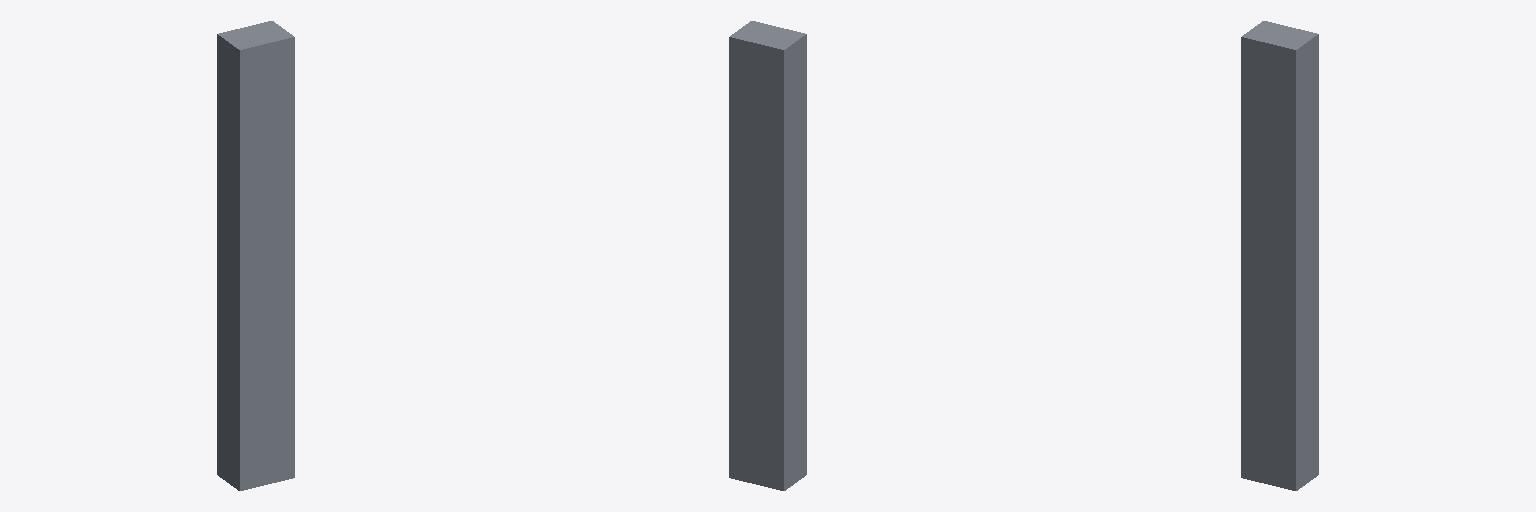
URDF robot description (artmanip_knife_000):
<?xml version='1.0' encoding='utf-8'?>
<robot name="artmanip_knife_000"><link name="link_0"><inertial><mass value="0.031555113532106" /><inertia ixx="4.690128575858709e-05" iyy="4.7303359192385536e-05" izz="1.1855783791040664e-06" ixy="0" ixz="0" iyz="0" /></inertial><visual><geometry><box size="0.01737474276289402 0.012205669964177655 0.13299237452177545" /></geometry><material name="link_0_color"><color rgba=".58 .60 .64 1" /></material></visual><collision><geometry><box size="0.01737474276289402 0.012205669964177655 0.13299237452177545" /></geometry></collision></link><link name="link_1"><inertial><mass value="0.006" /><inertia ixx="4.545e-07" iyy="5e-07" izz="5.45e-08" ixy="0" ixz="0" iyz="0" /></inertial><visual><geometry><mesh filename="slider-shoulder.obj" /></geometry><material name="link_1_color"><color rgba=".12 .13 .15 1" /></material></visual><collision><geometry><mesh filename="slider-shoulder.obj" /></geometry></collision></link><joint name="slider" type="prismatic"><parent link="link_0" /><child link="link_1" /><origin xyz="-0.0009881081643376807 0.006982189040498214 0.01170266188542659" /><axis xyz="0 0 1" /><limit lower="-0.03267458688196273" upper="0.017325413118037272" effort="100" velocity="1" /><dynamics damping="1000" friction="0.001" /></joint></robot>

--- What the picture shows (computed from the rendered views, not written in the file) ---
The picture shows the robot from 3 angles, left to right: view 1: azimuth 30°, elevation 25°; view 2: azimuth 150°, elevation 25°; view 3: azimuth 330°, elevation 25°; orthographic projection.
Model artmanip_knife_000 with 2 links and 1 joints (1 prismatic), rooted at link_0, posed every joint at zero.
Links seen in each view (by area): view 1: link_0; view 2: link_0; view 3: link_0.
Boxes of the visible links, x1,y1,x2,y2 form: link_0: [217, 21, 294, 490]; link_0: [729, 21, 806, 490]; link_0: [1241, 21, 1318, 490].
Size in the robot's own frame: 0.0174 by 0.0122 by 0.133 metres.
Meshes: 1 distinct files referenced, 0 mesh visuals loaded (none loaded); not drawn: 1 (reference not matched to a file when rendering).
